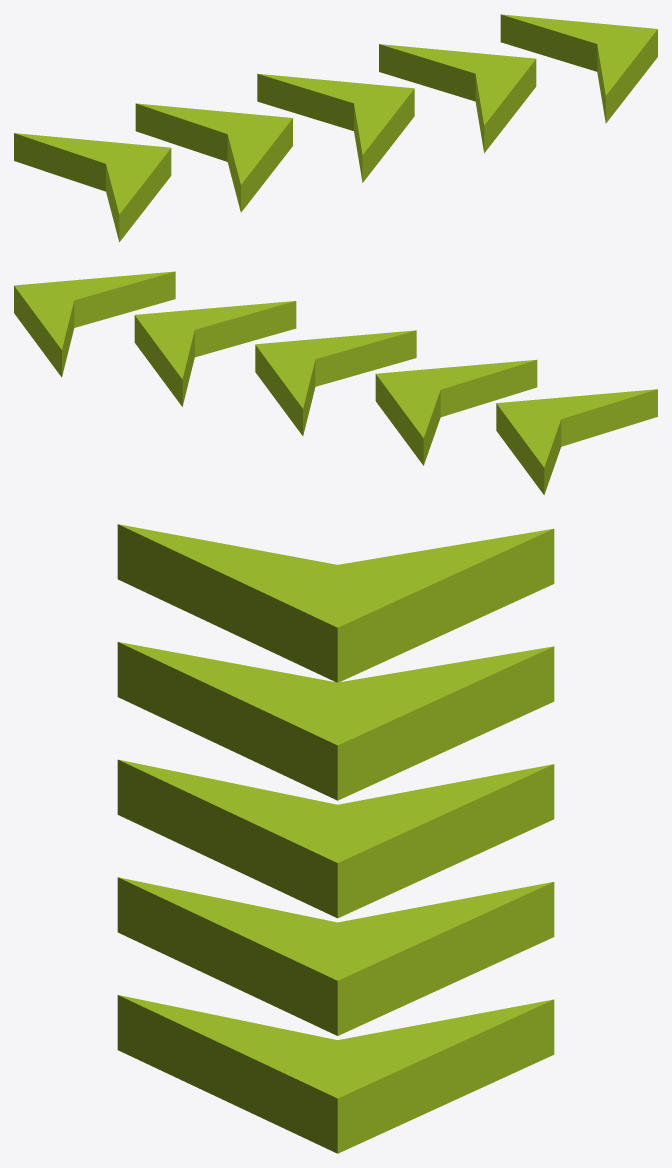
File: 拉动标记2.gltf
The picture shows the model from 3 angles, top to bottom: view 1: azimuth 30°, elevation 25°; view 2: azimuth 150°, elevation 25°; view 3: azimuth 270°, elevation 25°; orthographic projection. The views are drawn at different scales.
Visible parts, largest first — view 1: 拉伸和压缩箭头; view 2: 拉伸和压缩箭头; view 3: 拉伸和压缩箭头.
Part boxes in pixels (x1,y1,x2,y2): 拉伸和压缩箭头: (14,14,657,241); 拉伸和压缩箭头: (14,271,657,494); 拉伸和压缩箭头: (117,524,554,1153).
Bounding box in the file's own units: 223 × 10.09 × 71.59.
